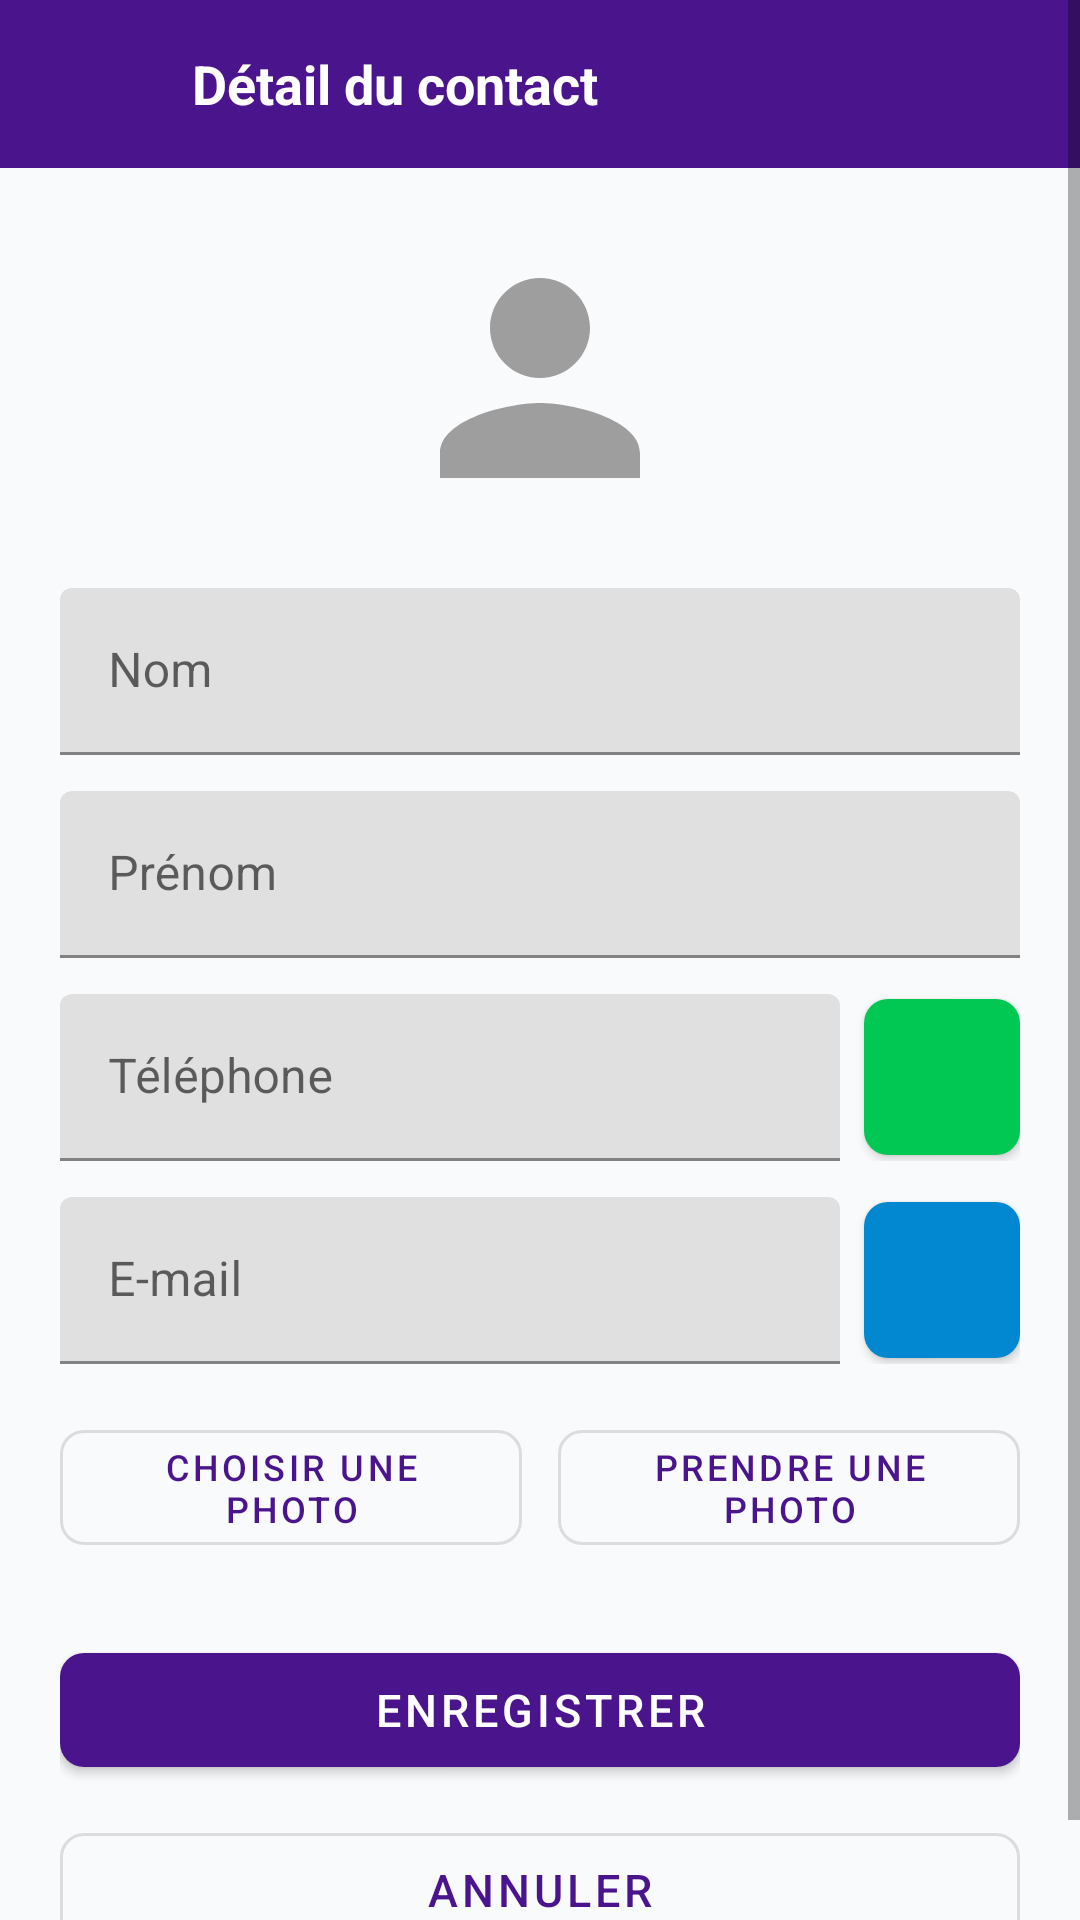

Screen size 1080px×1920px. Icon name, then its box in pixels as box(x1, y1, x2, y2):
Photo de profil: box(440, 278, 640, 478)
